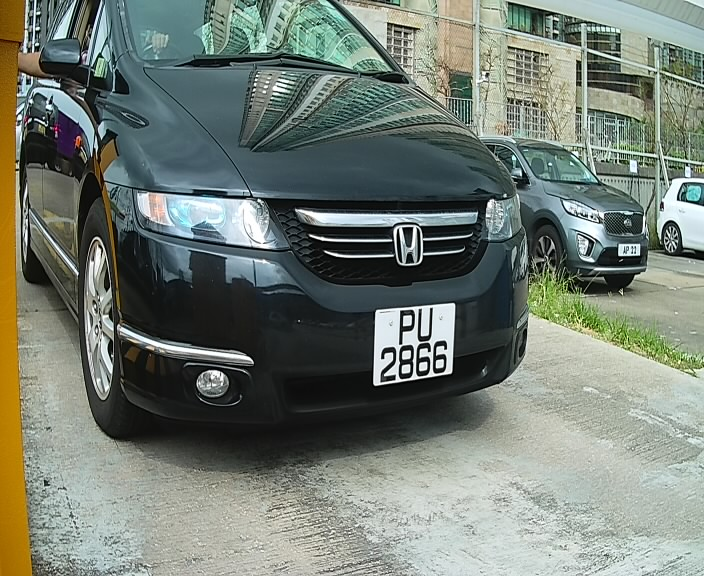License Plate: (371, 297, 460, 394)
